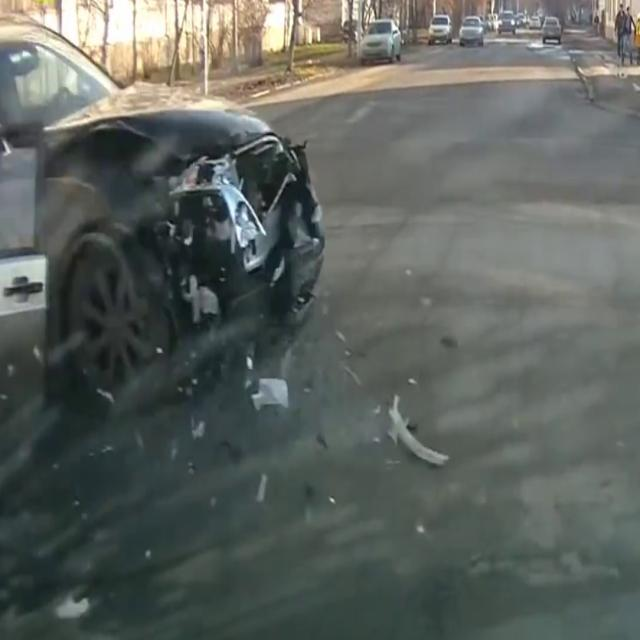accident: (0, 27, 347, 424)
